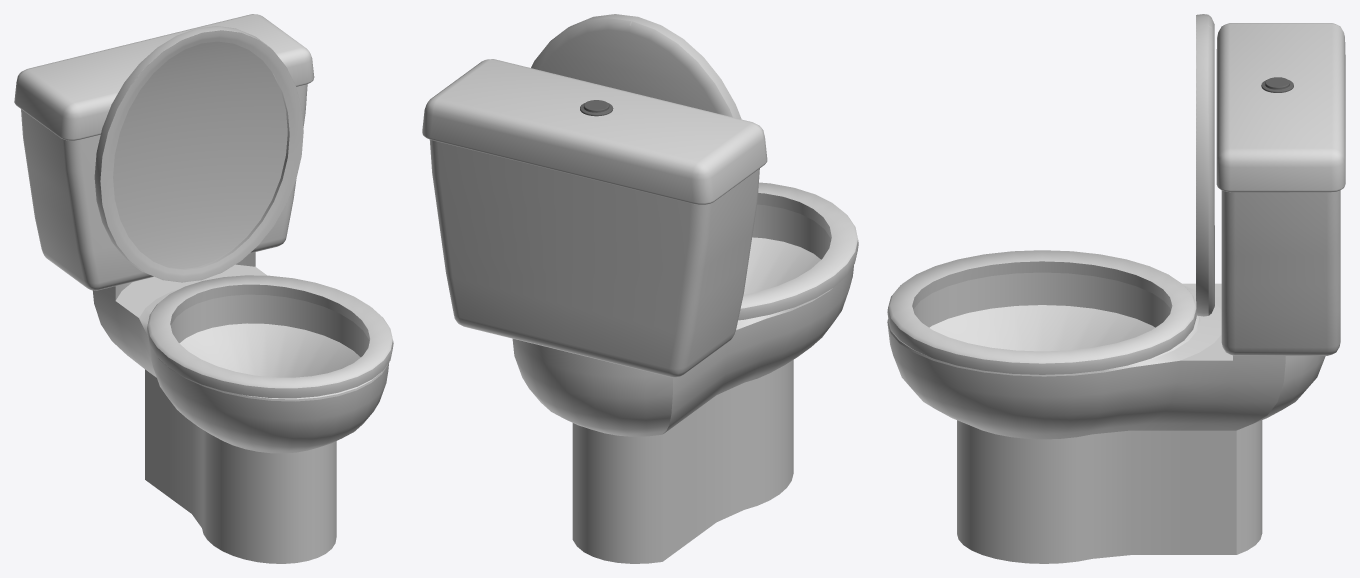
File: Toilet(Open).glb
3 views of the same model, side by side, from view 1: azimuth 30°, elevation 25°; view 2: azimuth 150°, elevation 25°; view 3: azimuth 270°, elevation 25° (orthographic). The views are drawn at different scales.
Parts seen in each view (by area): view 1: Toilet (Open); view 2: Toilet (Open); view 3: Toilet (Open).
Part boxes in pixels (<box>): Toilet (Open): <box>14,14,393,563</box>; Toilet (Open): <box>422,14,858,563</box>; Toilet (Open): <box>887,14,1345,563</box>.
Size of the model in its own units: 0.4828 by 0.8261 by 0.6741.
1 material, 1 textured.
